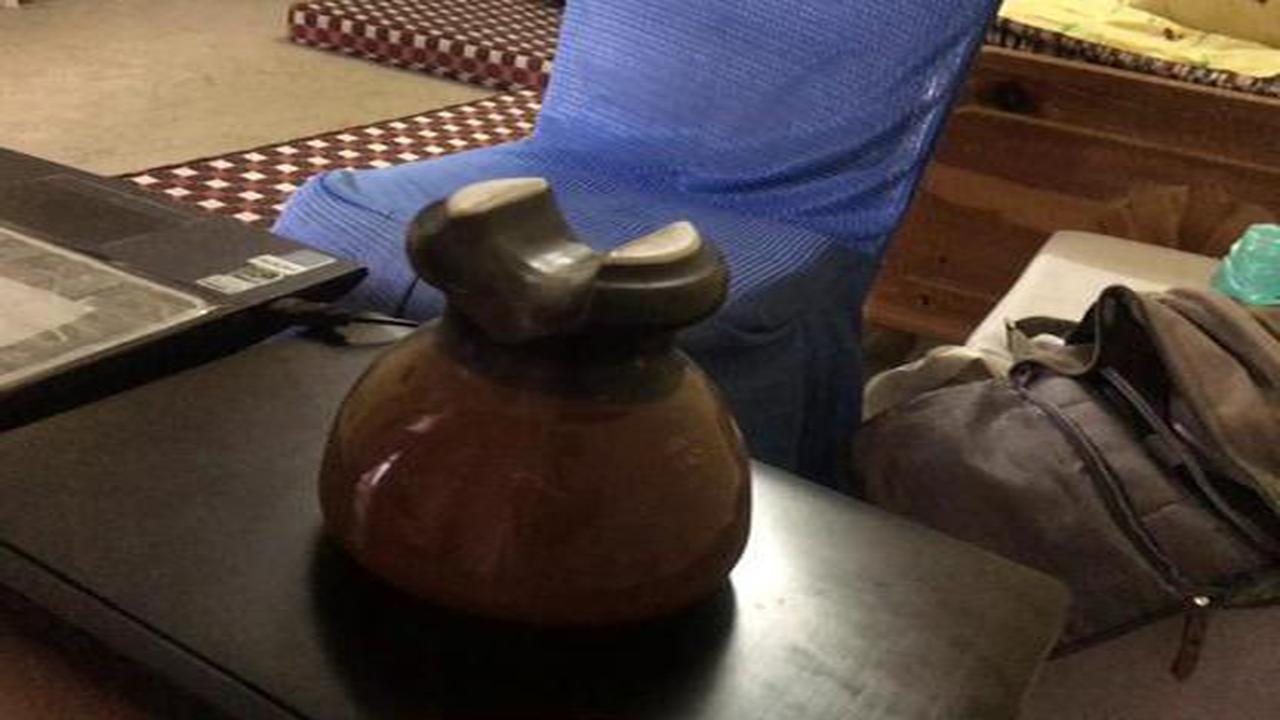insulator_pin: (305, 157, 776, 644)
